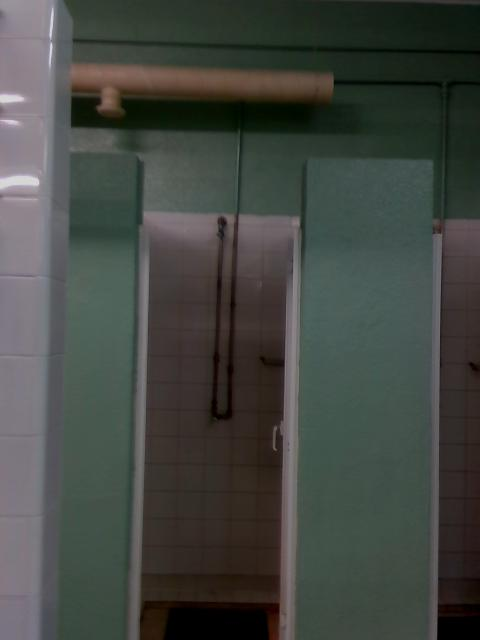open_door: (128, 152, 307, 638)
